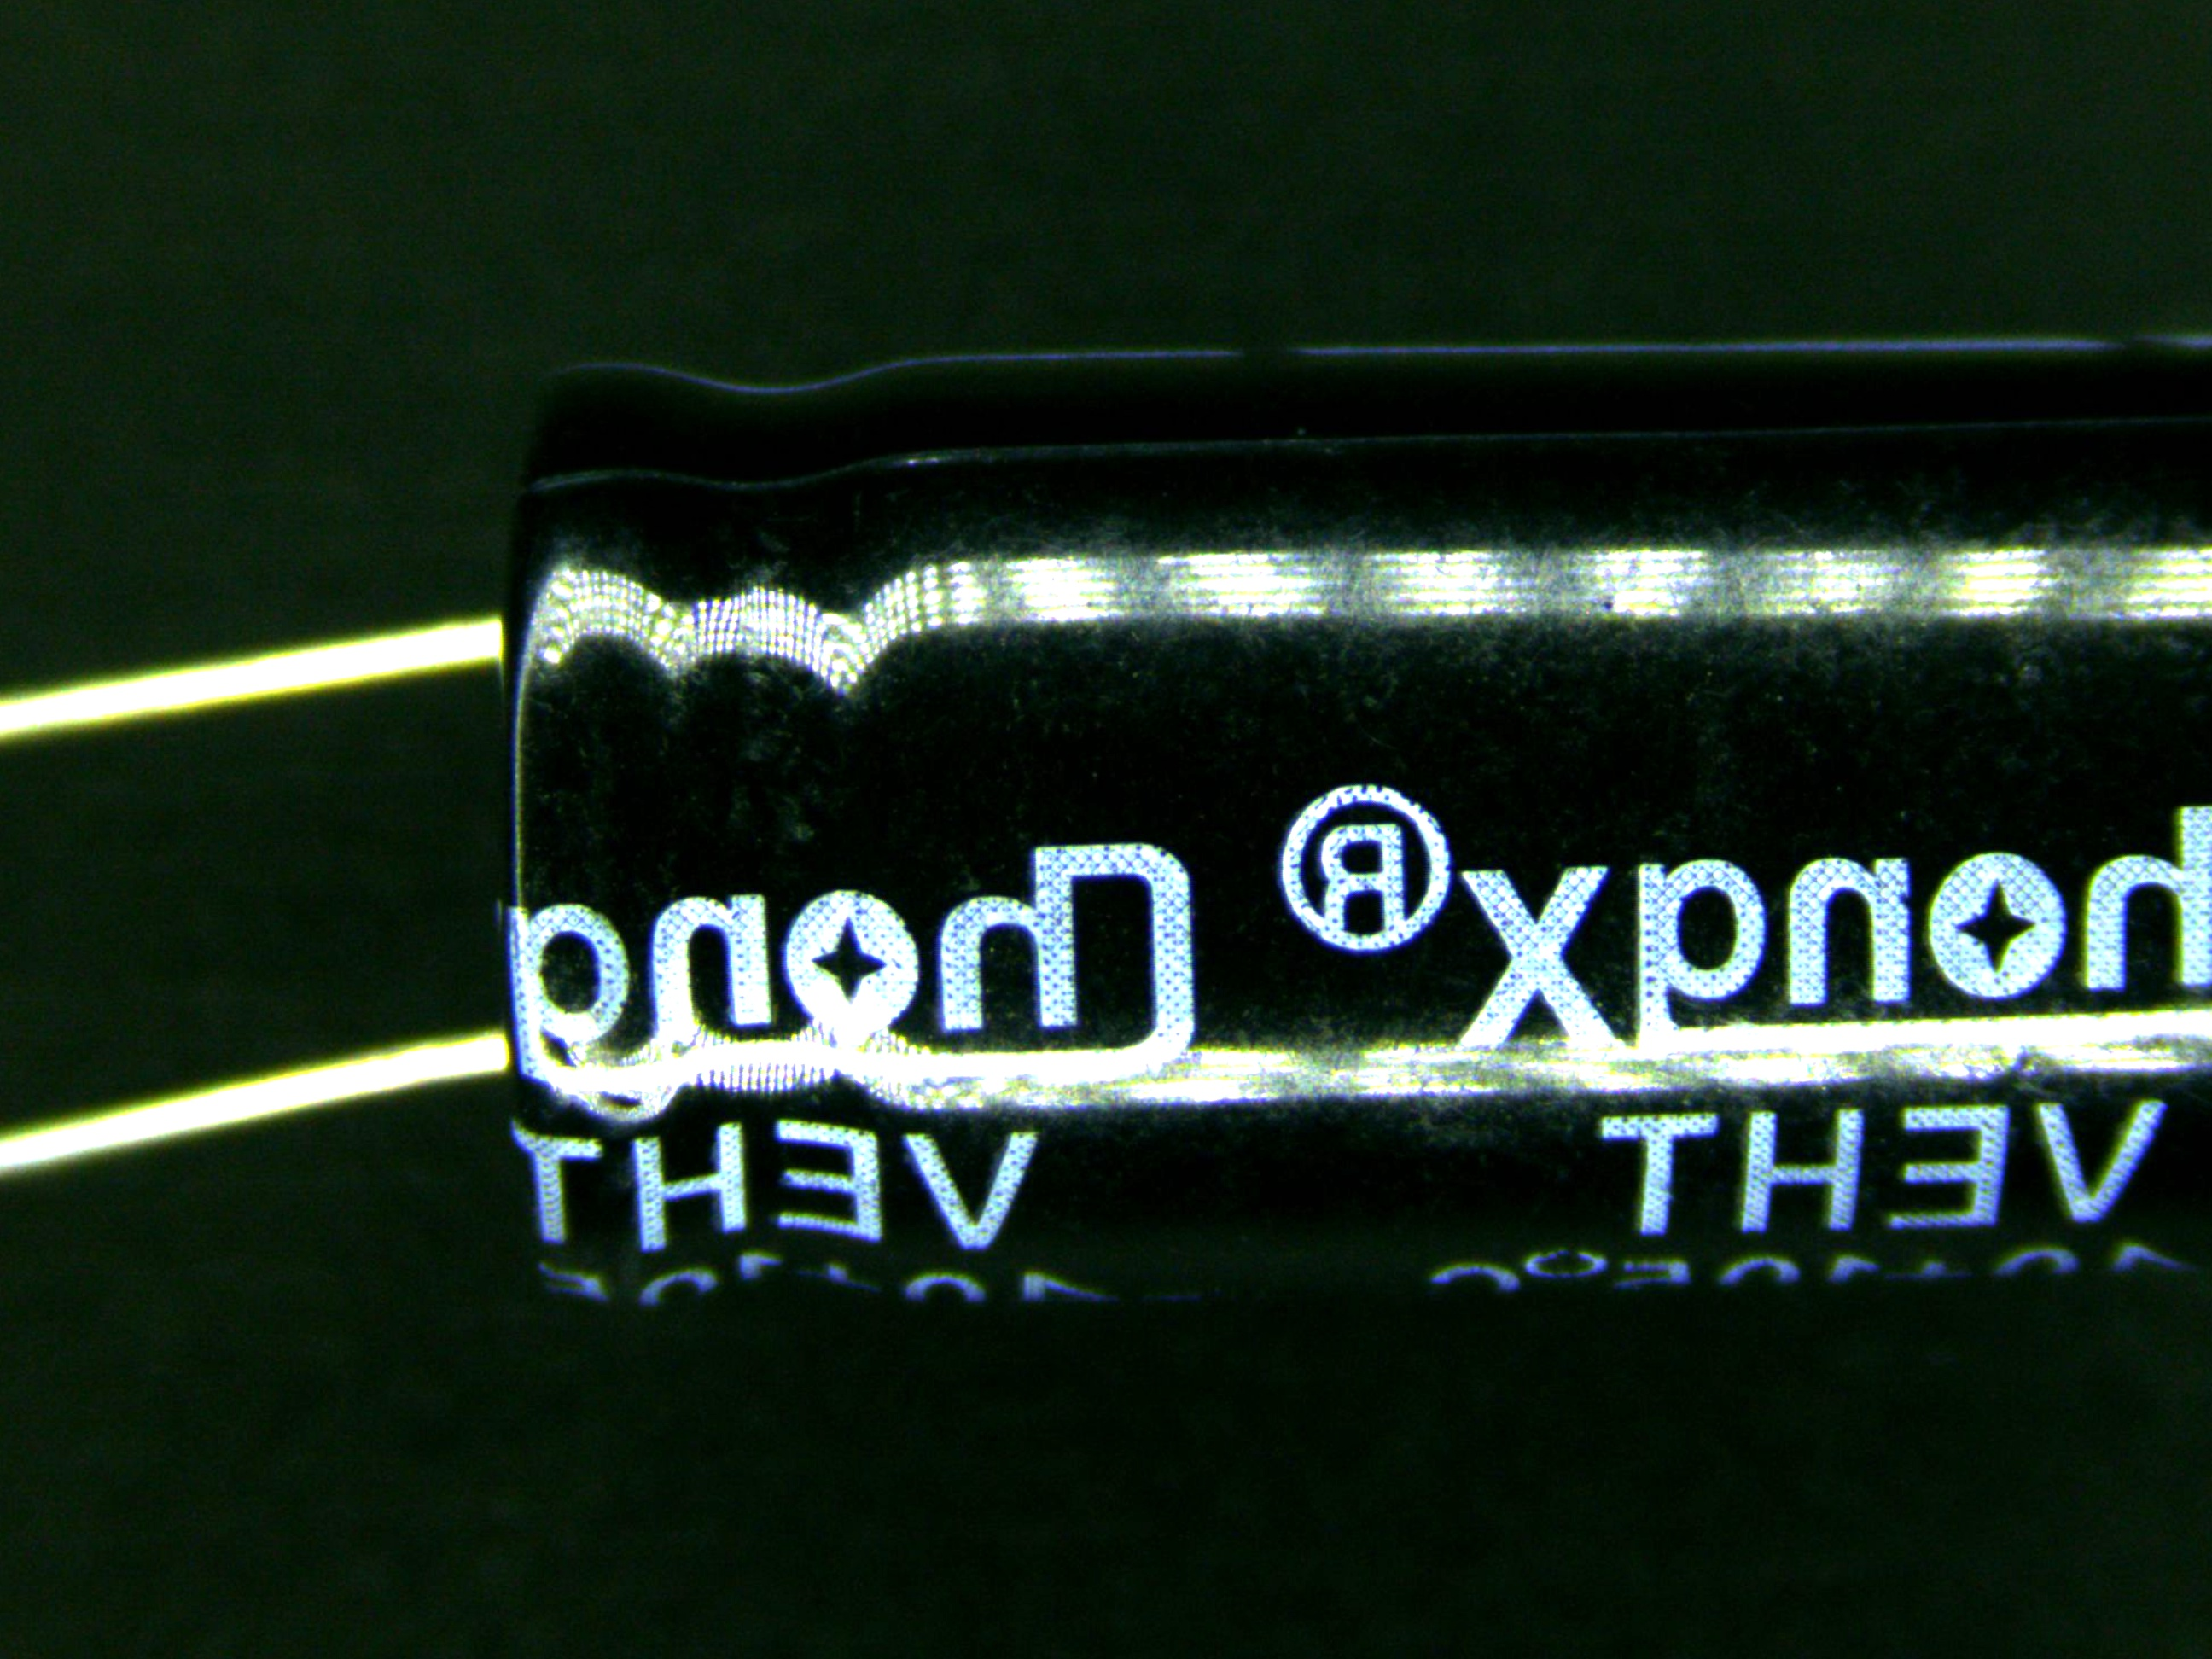c3: (160, 333, 2212, 1321)
